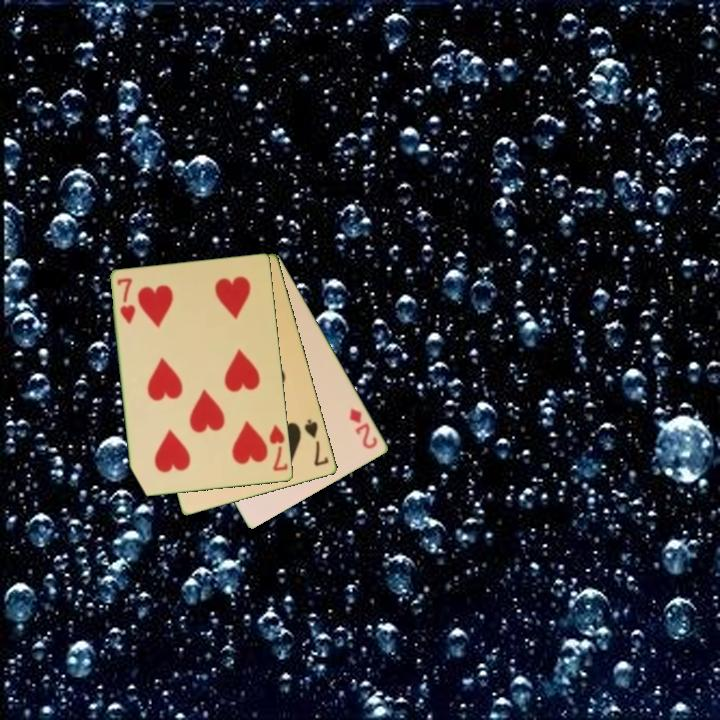2d: (346, 405, 381, 452)
7h: (266, 421, 291, 474), (114, 275, 139, 327)
7s: (301, 416, 332, 469)
